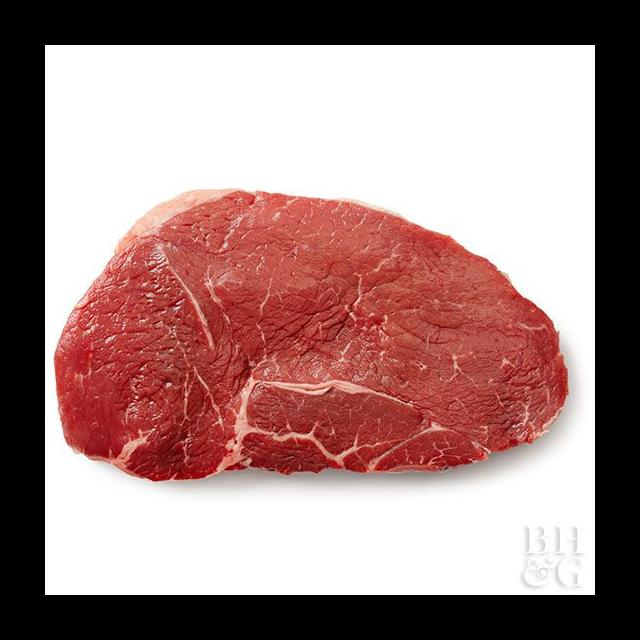beef: (53, 182, 573, 493)
